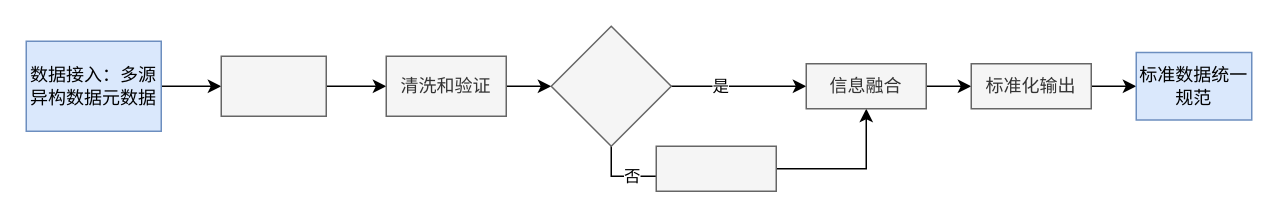
This 1278x218 diagram has some shape labels left out. Each missing label, with the centre of its shape:
地址映射: point 715,168
提取/分离: point 273,85
时空基准统一: point 610,85
